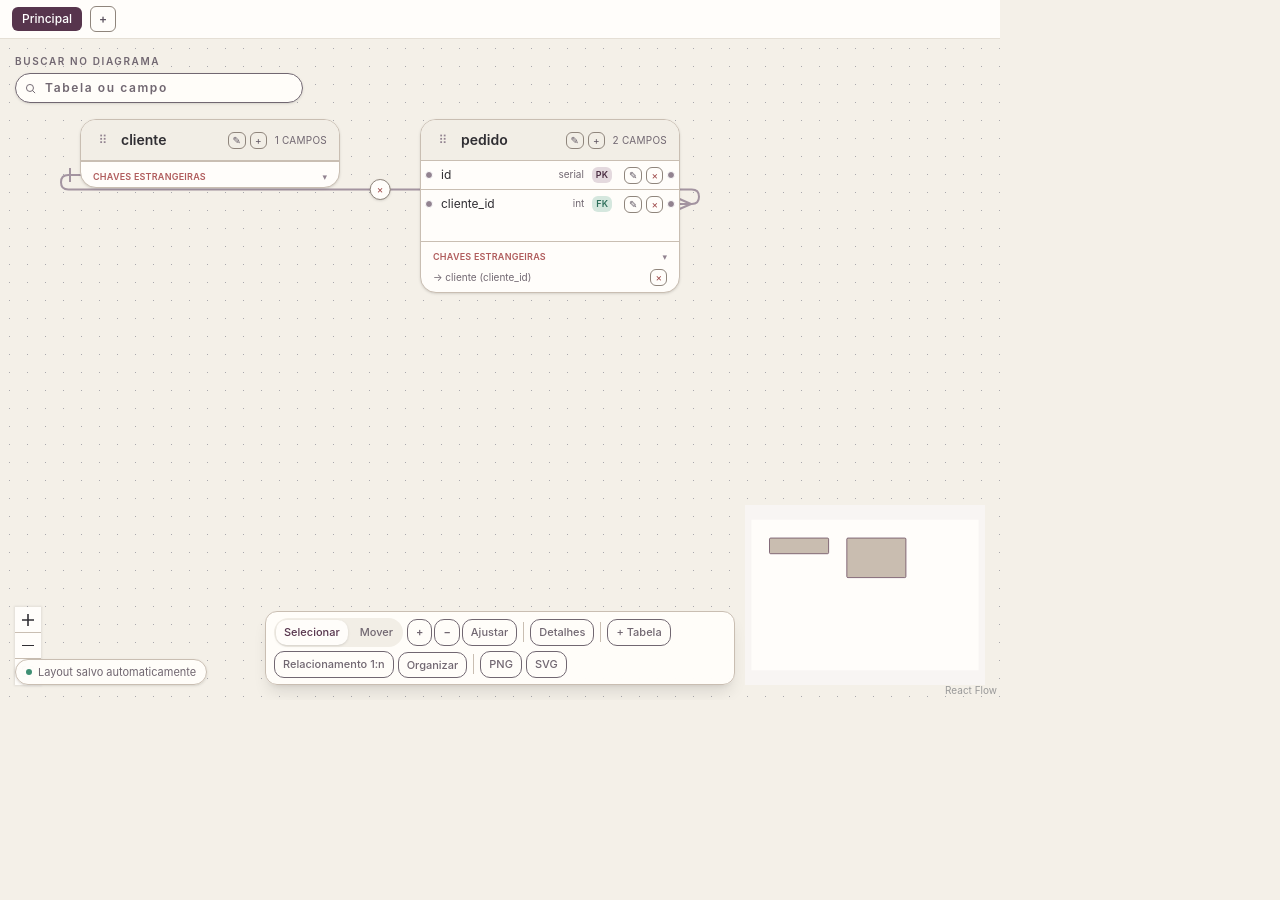
it: DiagramCanvas editing › undo restaura tabela excluída com colunas e relacionamento e redo reaplica
Right-click the element with test id "diagram-node-pedido" at coordinates (550, 206), box [420,119,680,293]
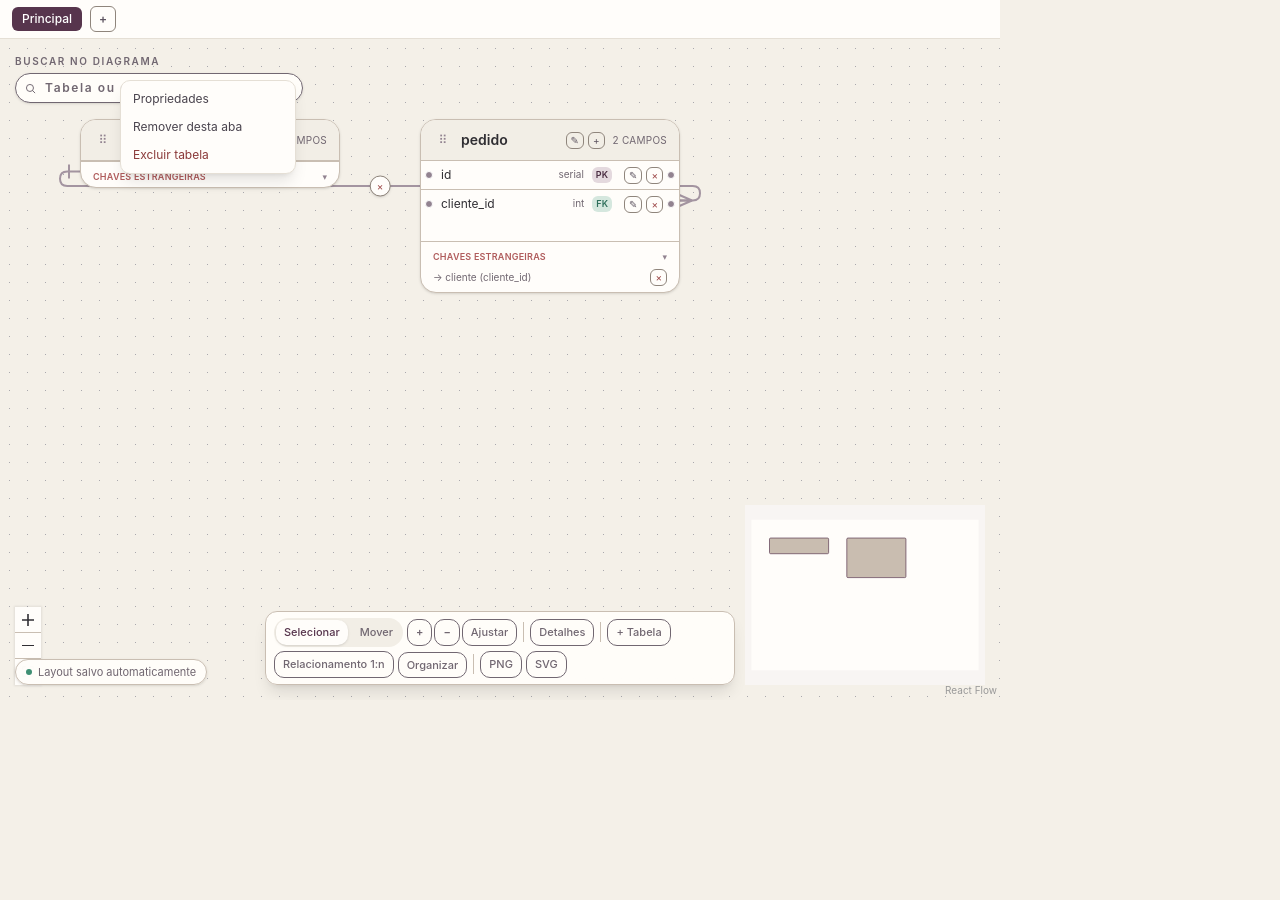
Click the menu item with test id "canvas-menu-delete-table" at coordinates (208, 155), box [121,141,295,169]
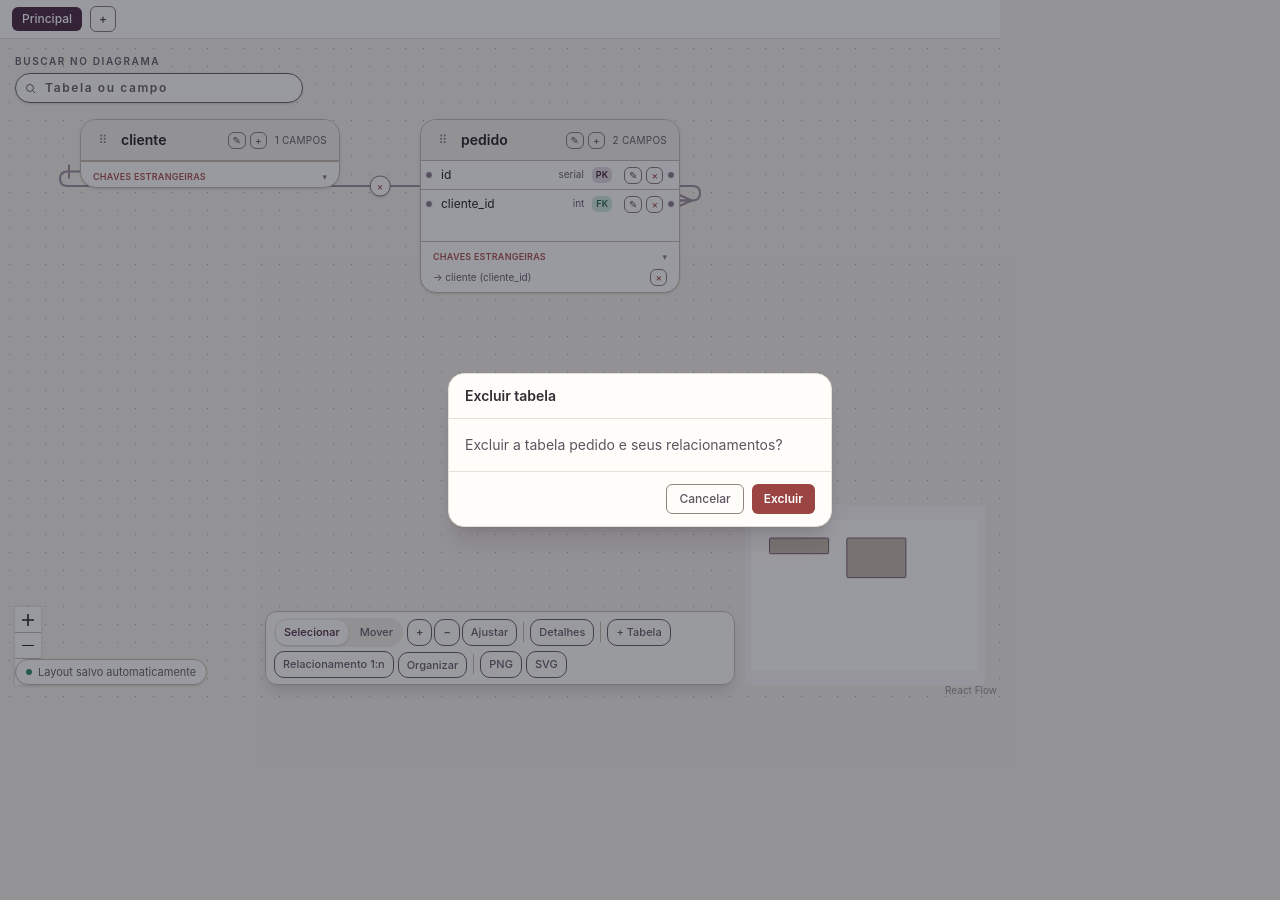
Click the button "Excluir" at coordinates (783, 499), box [752,484,815,514]
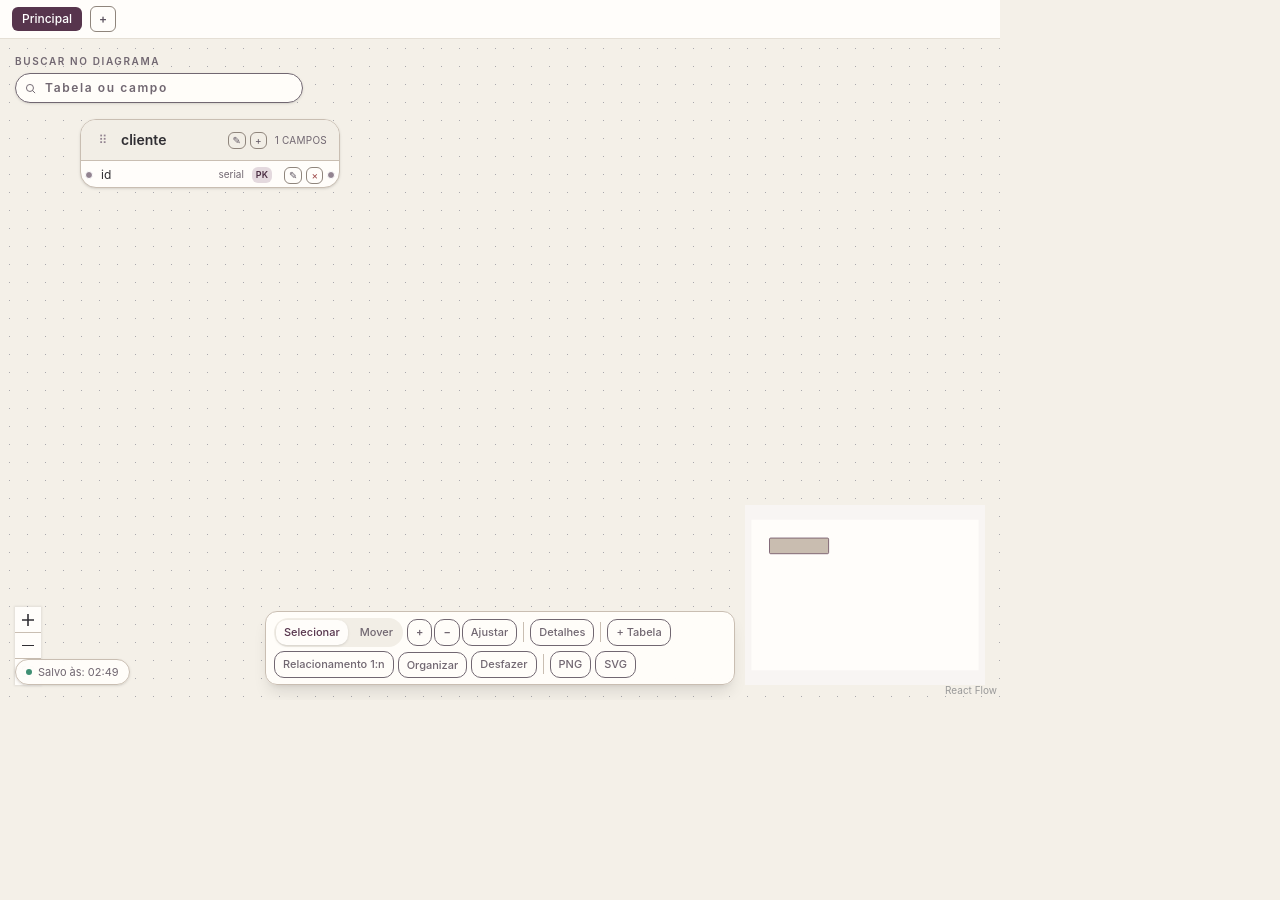
Click the button with test id "diagram-undo" at coordinates (504, 664), box [471,651,537,678]
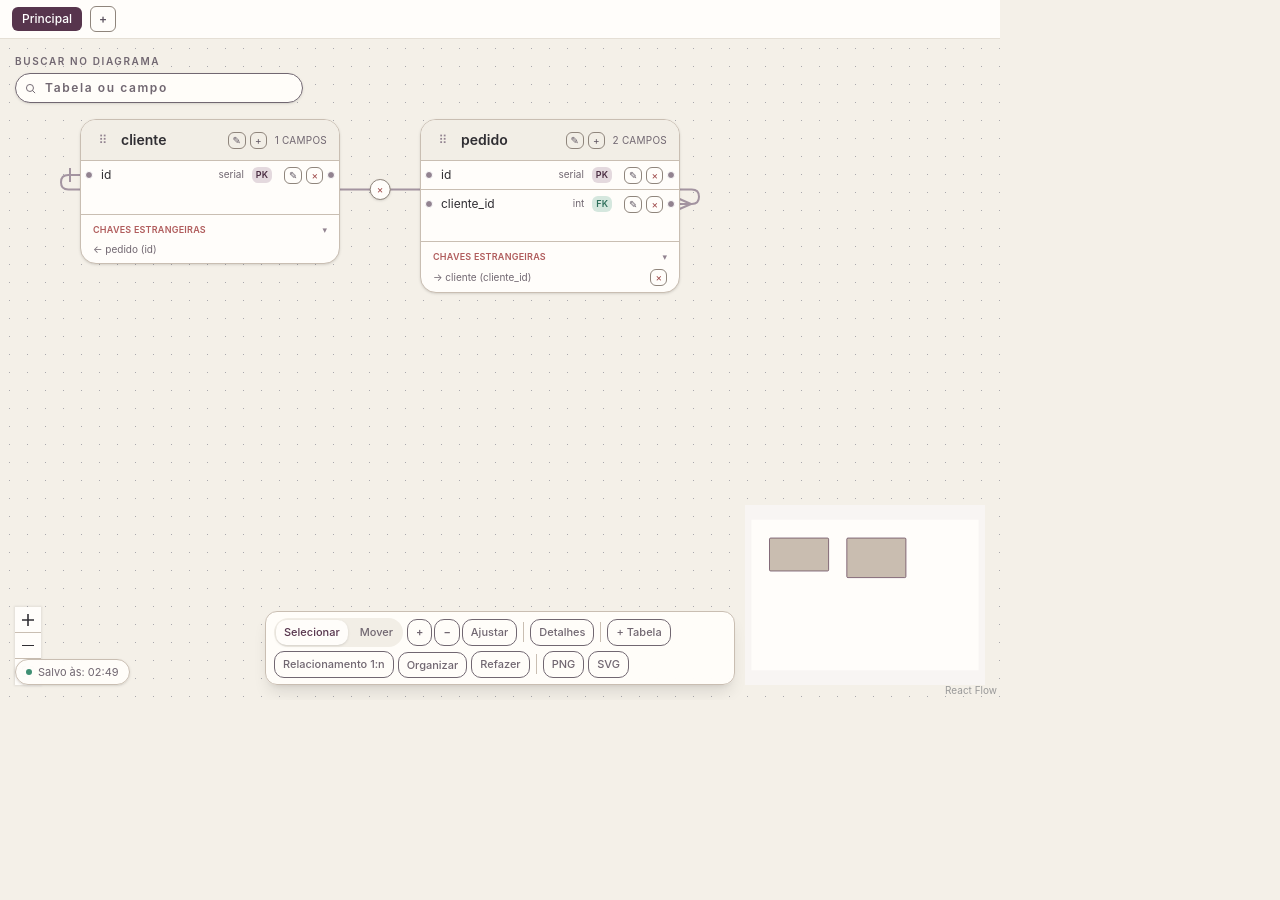
Now the element with test id "diagram-node-pedido" is shown, box [420,119,680,293]
Click the button with test id "diagram-redo" at coordinates (500, 664), box [471,651,530,678]
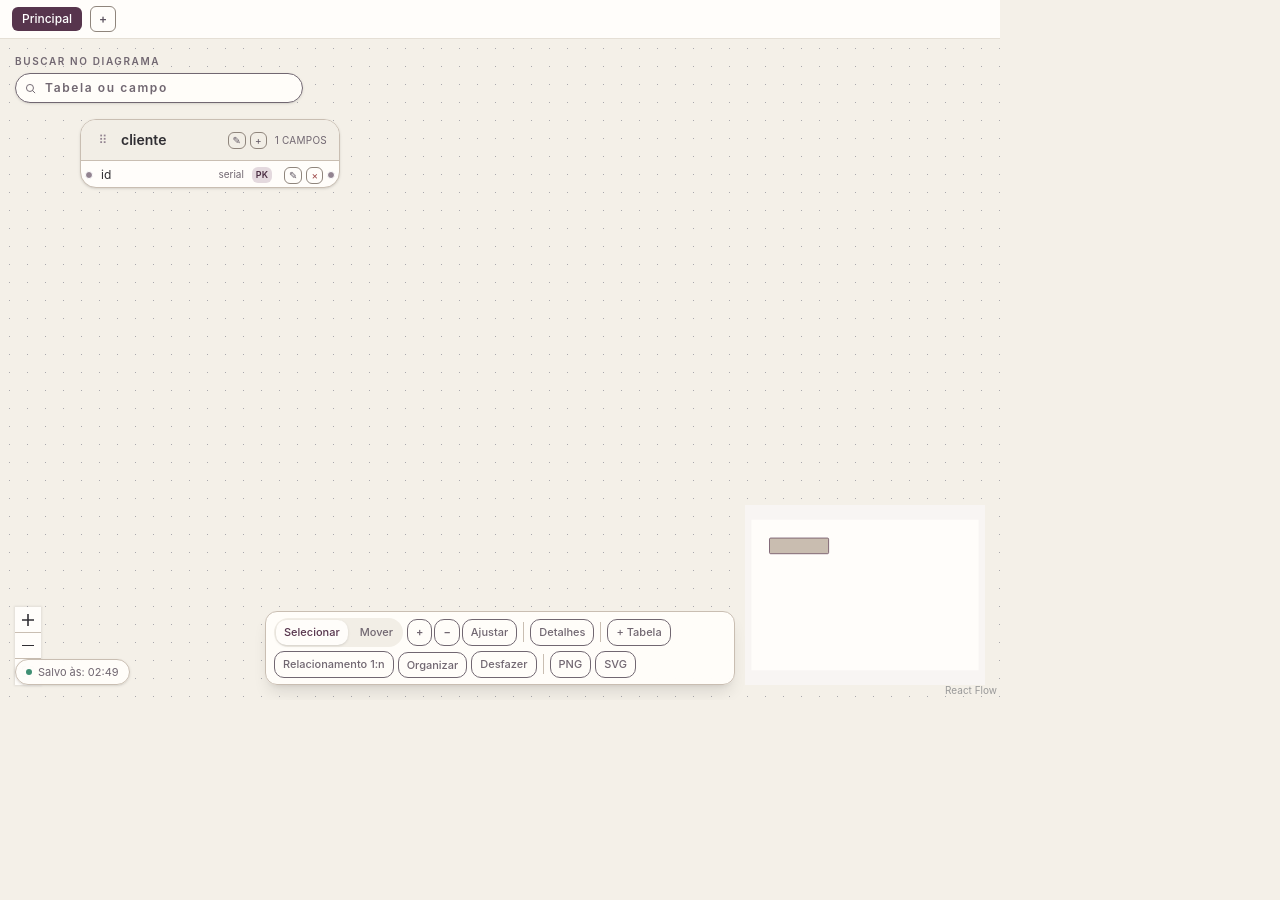
Now the element with test id "diagram-node-pedido" is gone
